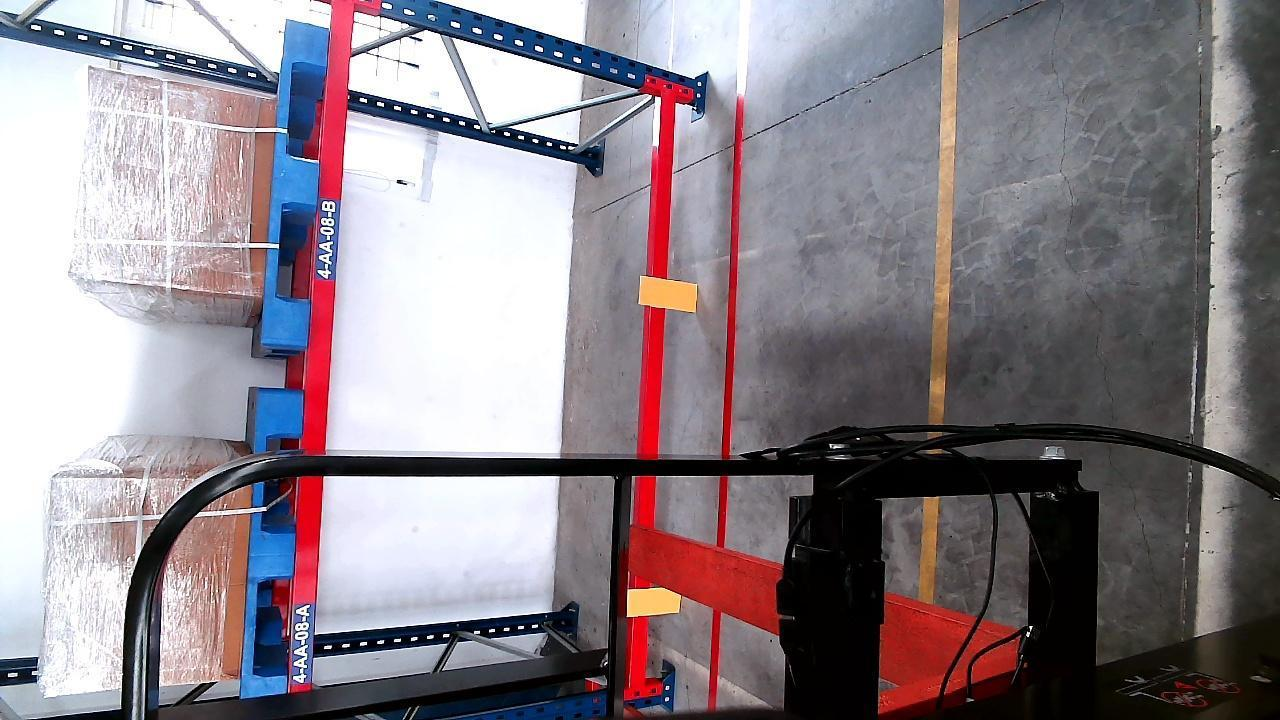h_rack: (288, 2, 356, 684), (628, 97, 677, 688)
orange_strip: (641, 276, 698, 311), (625, 586, 682, 616)
red_line: (704, 94, 751, 708)
small_pallet: (263, 19, 333, 349), (242, 385, 299, 694)
yellow_line: (919, 0, 961, 606)
